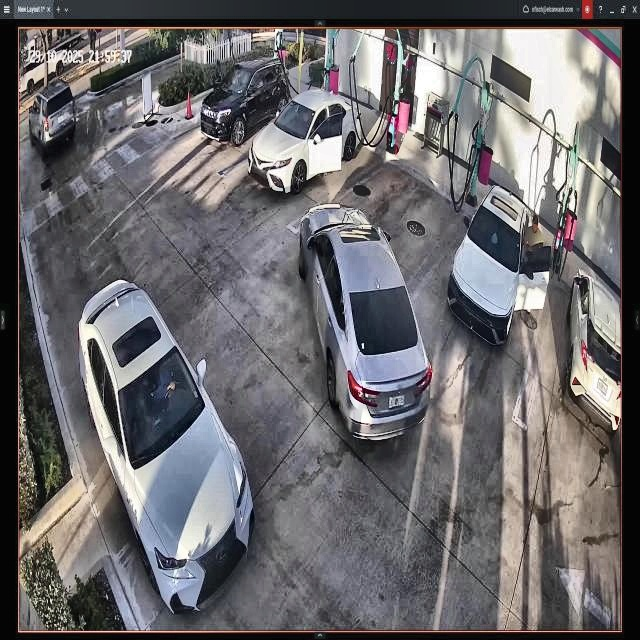Car: (80, 276, 256, 612), (300, 202, 432, 444), (448, 189, 536, 346), (249, 88, 360, 193), (201, 57, 290, 143)
